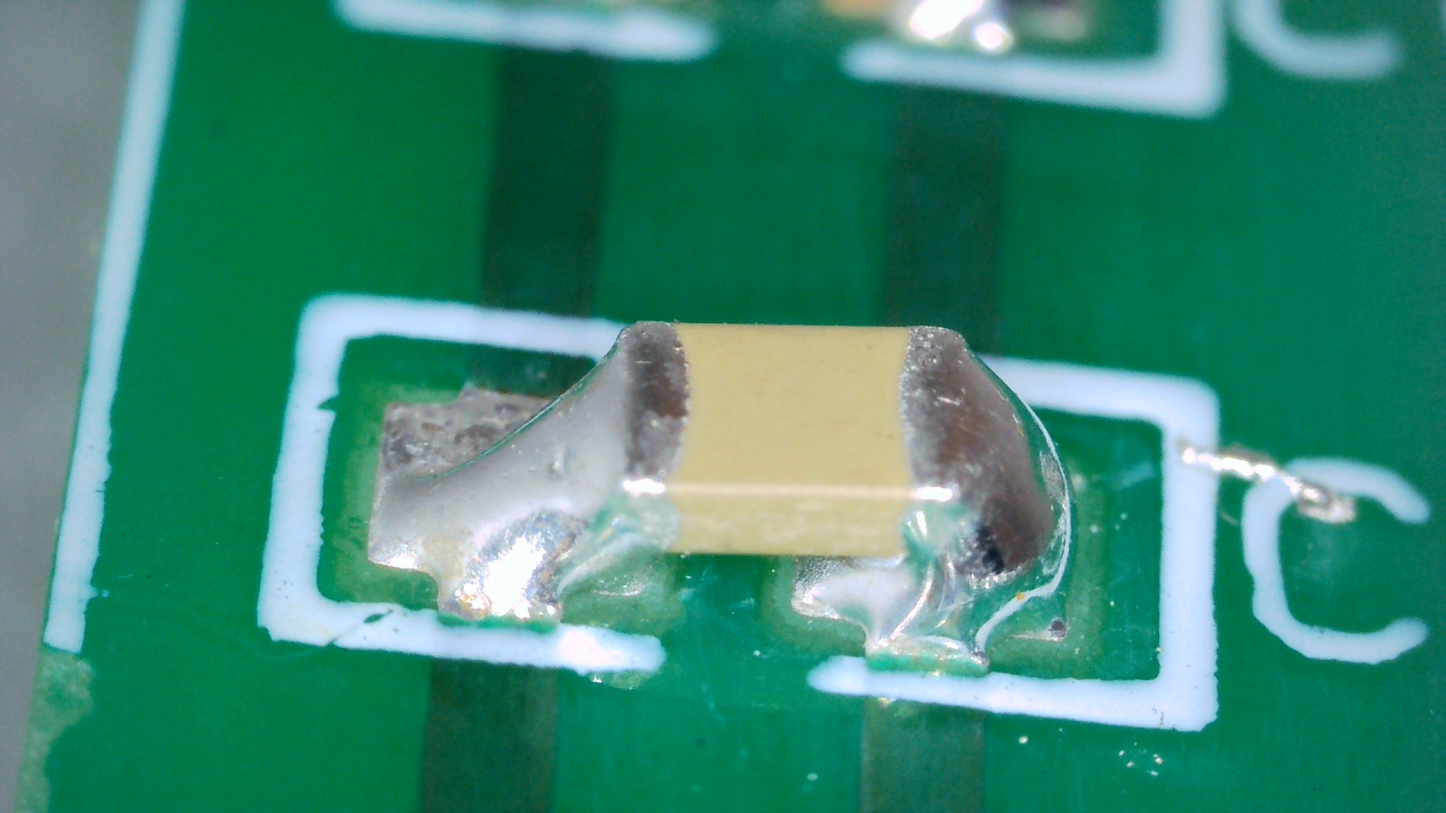NG: (796, 330, 1065, 664)
OK: (368, 324, 685, 627)
